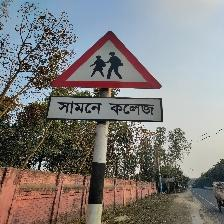College-in-front: (31, 16, 185, 172)
